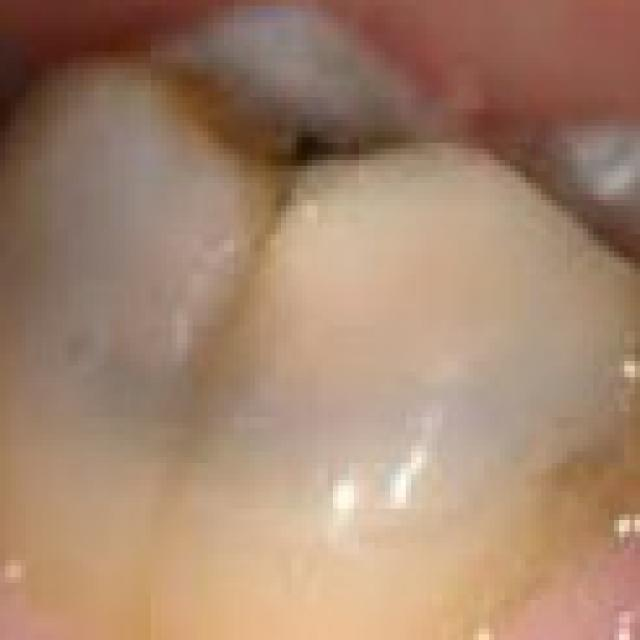Carrier: (154, 52, 409, 185)
